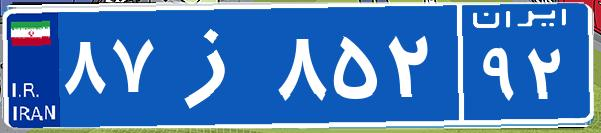2: (385, 28, 445, 110), (525, 38, 570, 115)
5: (330, 28, 385, 110)
7: (110, 28, 158, 105)
8: (273, 28, 330, 110), (57, 26, 110, 107)
9: (475, 38, 525, 113)
ز: (158, 15, 273, 115)
